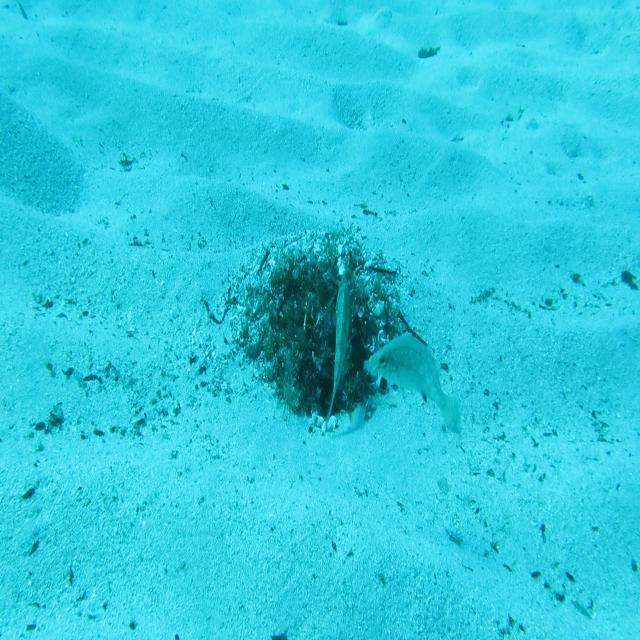FAN: (322, 271, 355, 428)
core_nest: (295, 272, 338, 305)
female: (367, 332, 465, 437)
nest: (224, 210, 422, 442)
vegetation: (416, 41, 444, 63), (616, 269, 640, 294)
